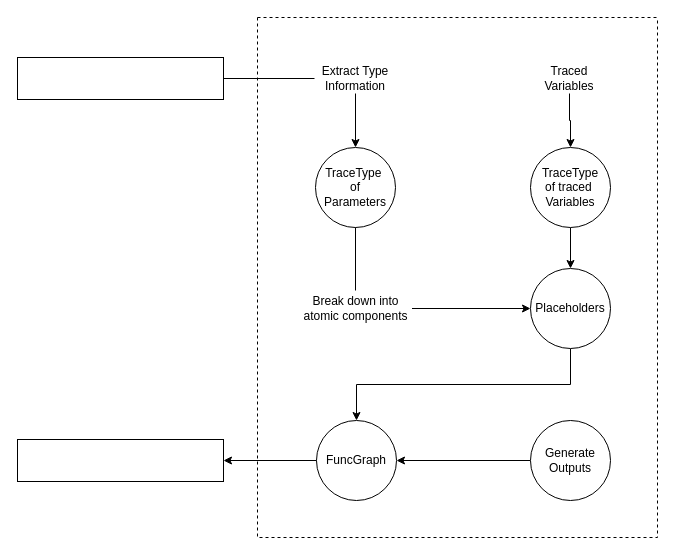
Some shapes in this 675 by 555 pixel diagram are drawn without their labels. Here are the shapes that lost their labels. From the top down, the centre of each, then its label:
pixel 120 78: User-Passed tf.function Parameters
pixel 120 460: ConcreteFunction
